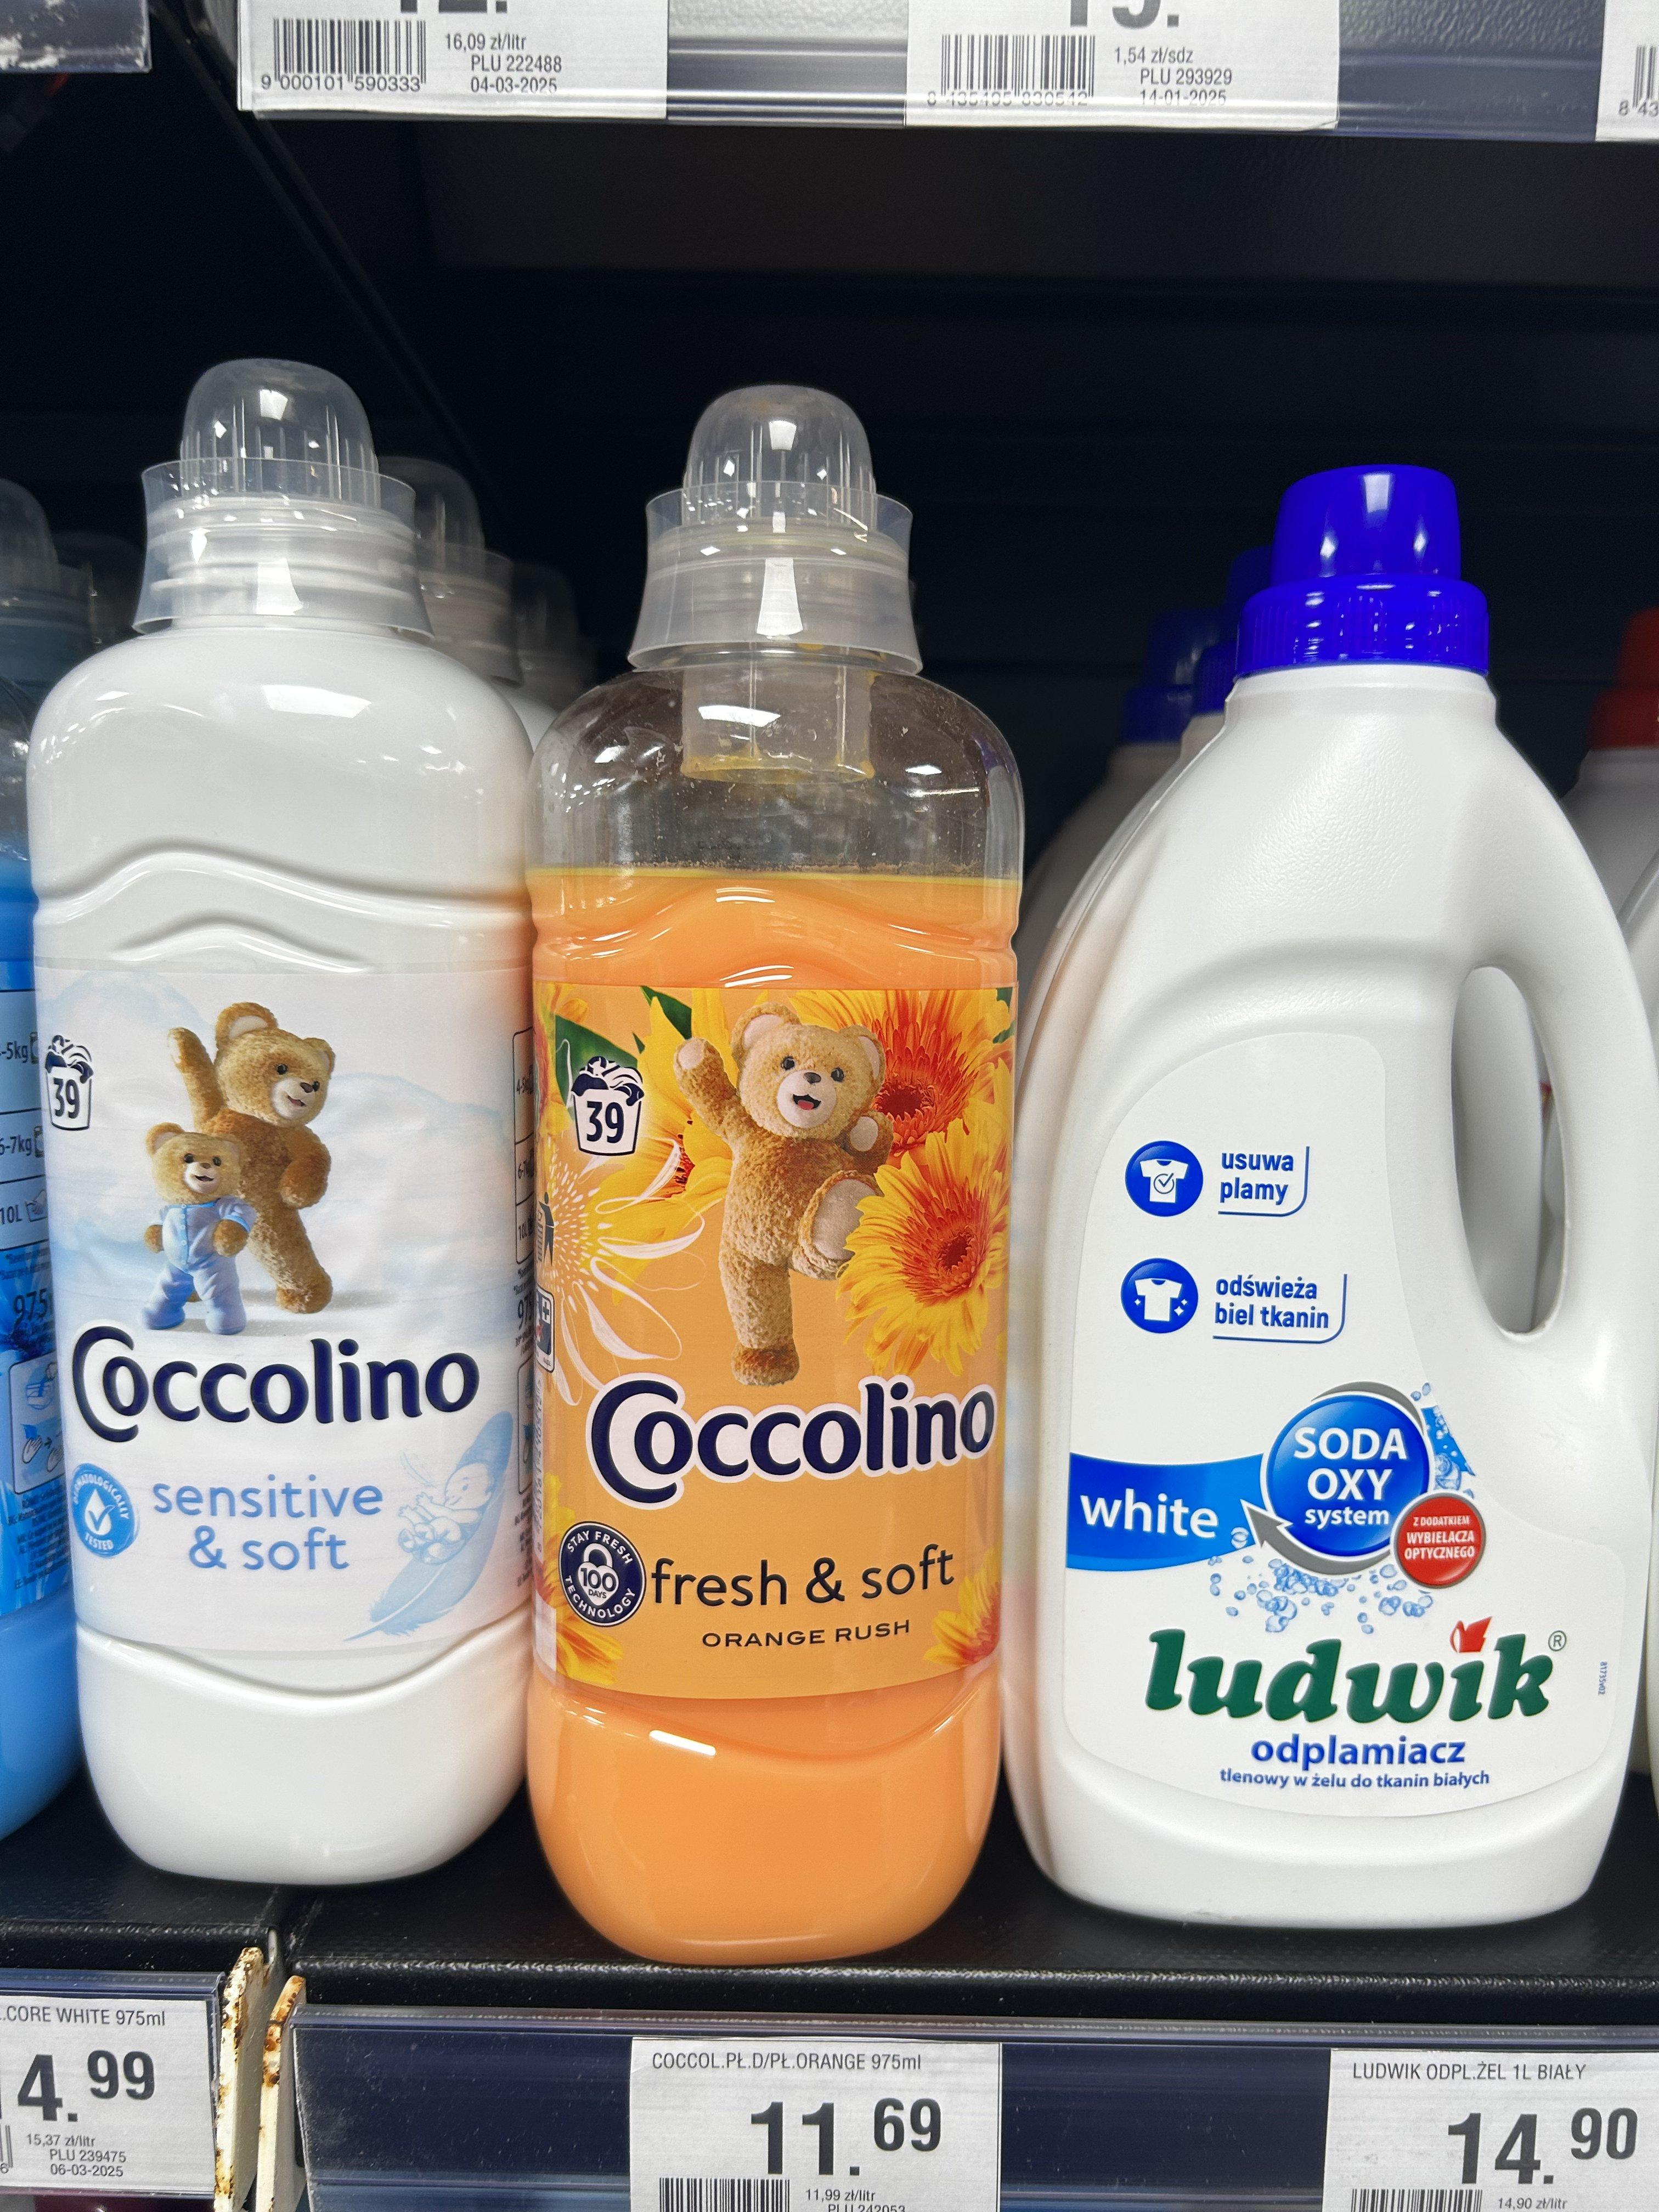cocolino: (528, 314, 1012, 1975), (26, 331, 526, 1907)
